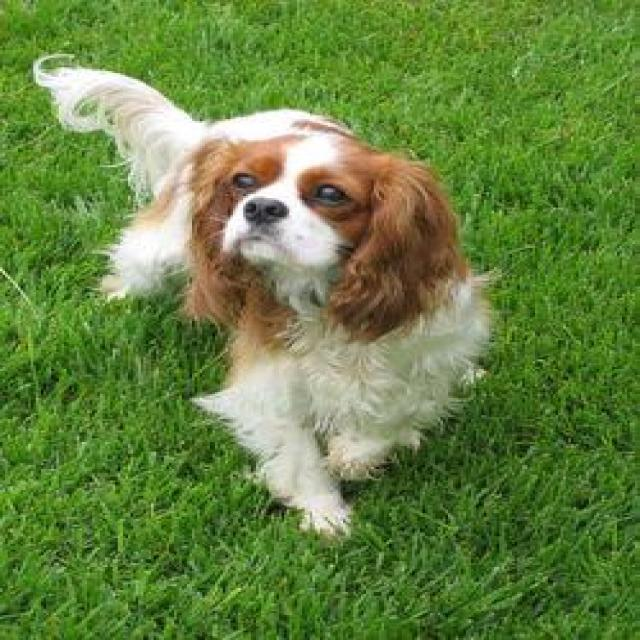husky: (26, 48, 502, 538)
